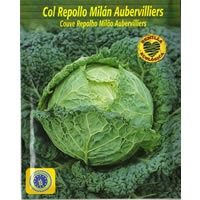cabbage: (37, 53, 155, 165)
